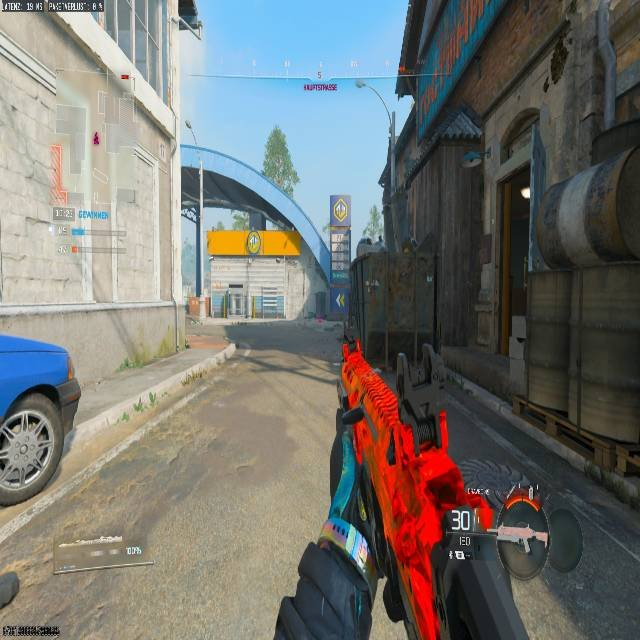player: (336, 293, 344, 310)
